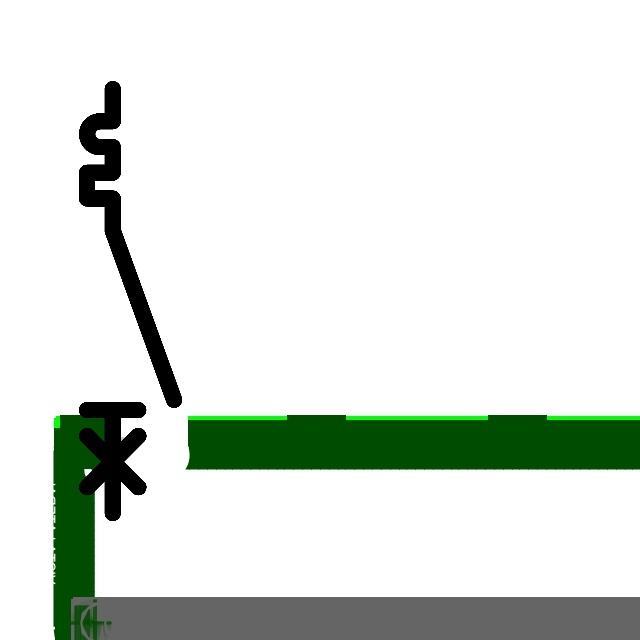interruptor_termomagnetico: (76, 78, 185, 524)
